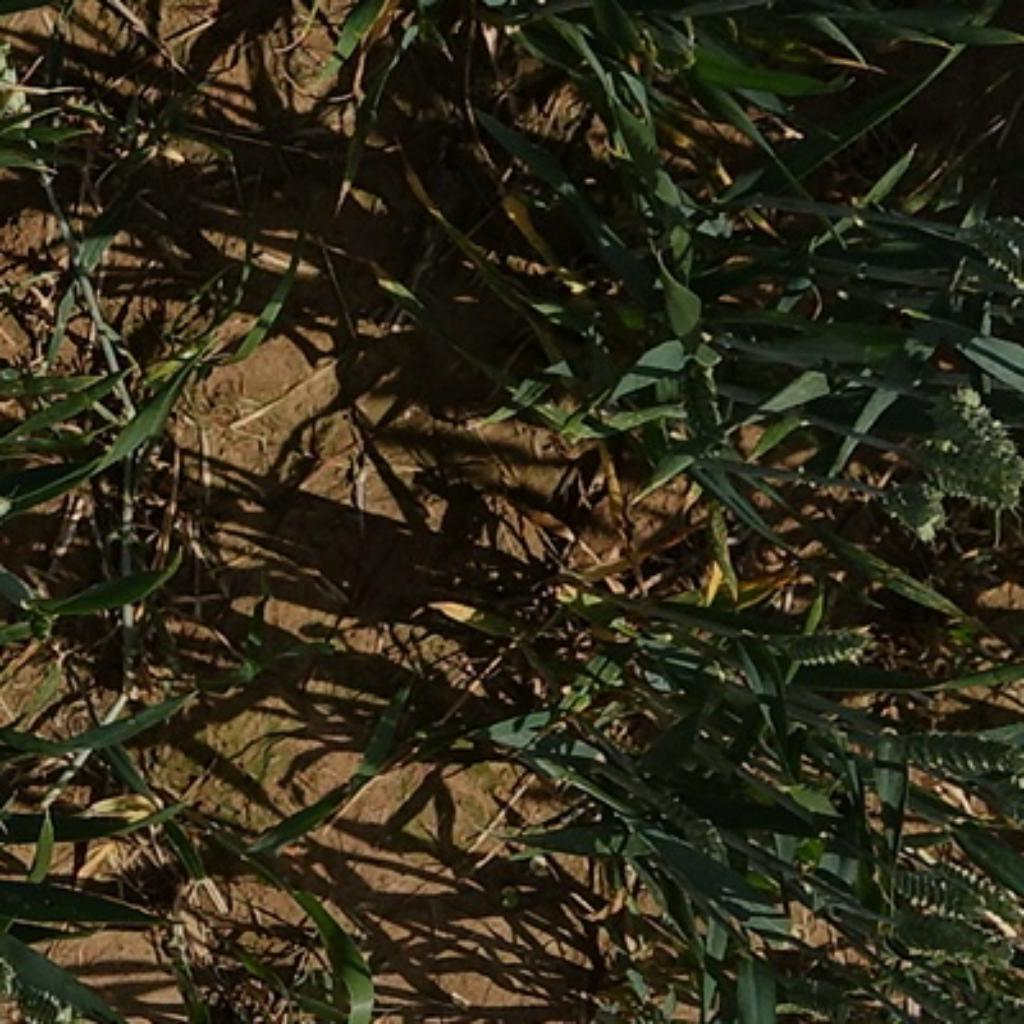0-0: (924, 350, 1016, 504), (882, 854, 1000, 929), (757, 619, 895, 680), (898, 725, 1024, 786), (672, 362, 740, 471), (870, 458, 954, 542), (0, 12, 45, 154), (653, 790, 732, 869), (896, 968, 991, 1023), (942, 861, 1024, 918), (886, 923, 1004, 961), (951, 206, 1024, 253), (975, 234, 1024, 294), (968, 976, 1024, 1024)
